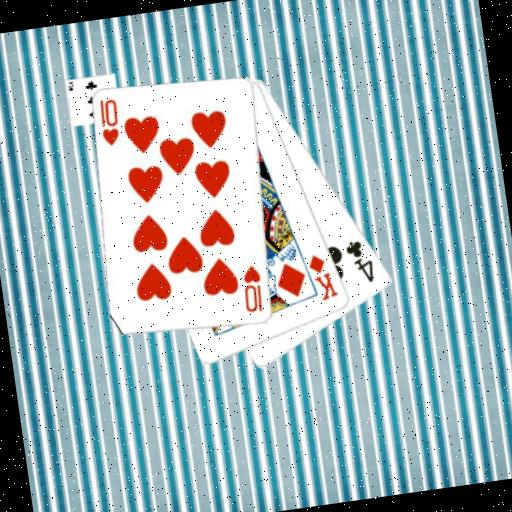10H: (95, 95, 125, 149), (238, 262, 268, 315)
4C: (341, 235, 378, 288)
KD: (305, 249, 341, 305)
